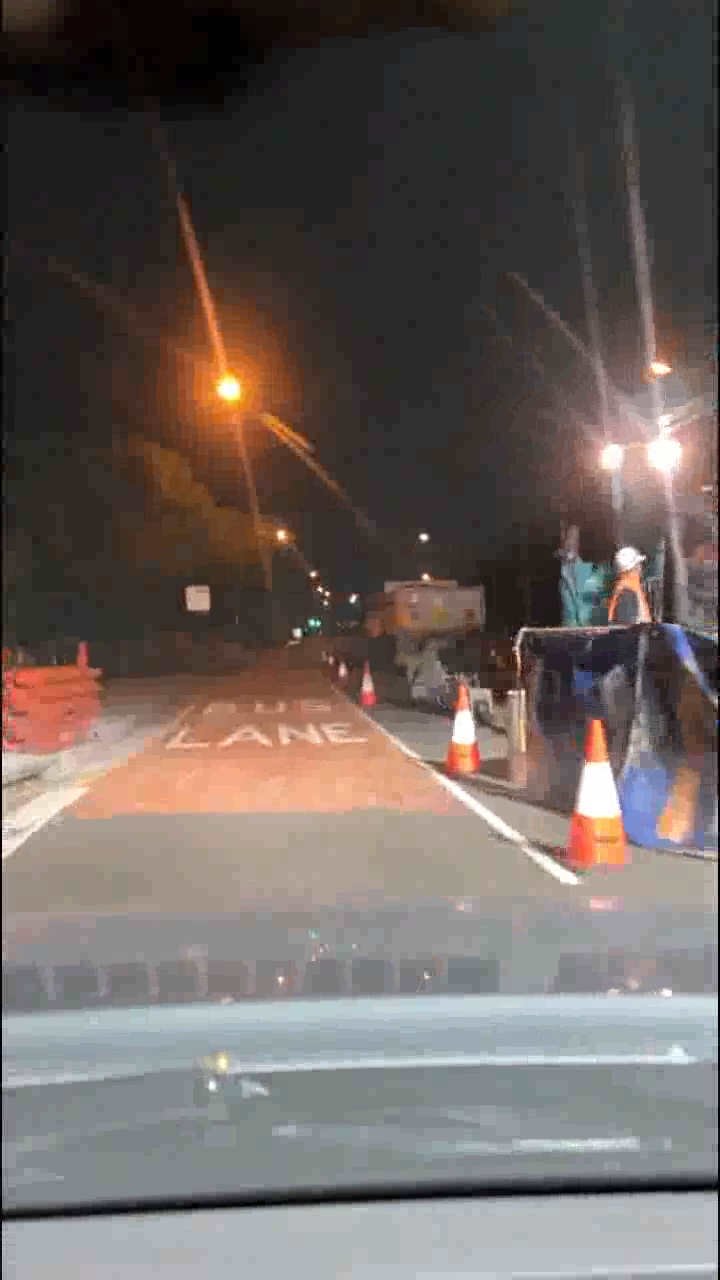person: (606, 536, 662, 625)
road cone: (2, 652, 135, 754), (570, 713, 625, 884), (435, 684, 493, 798), (354, 661, 379, 717)
truck: (349, 567, 497, 677)
